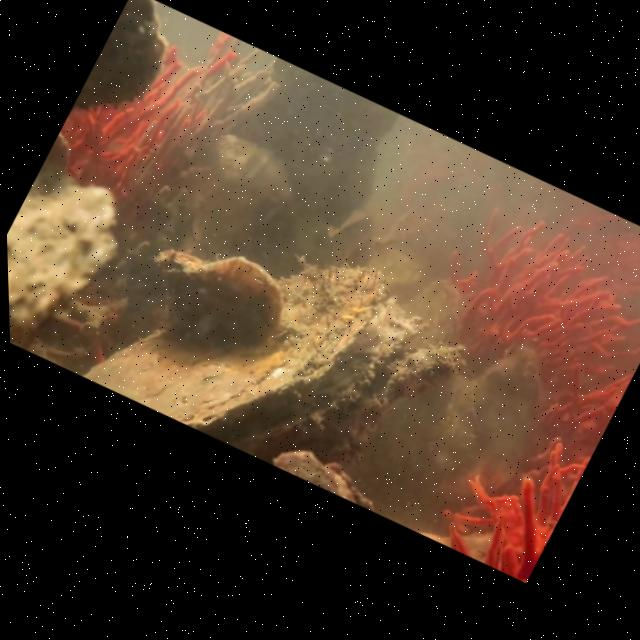Oyster-Indeterminate: (357, 346, 542, 531), (7, 175, 125, 351)
Oyster-Open: (79, 242, 480, 474)
